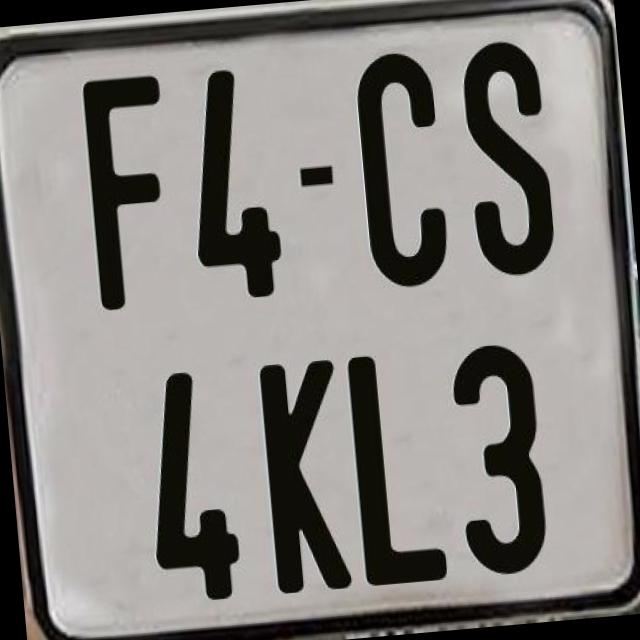3: (449, 342, 552, 582)
4: (140, 368, 250, 610), (182, 63, 286, 303)
C: (350, 48, 456, 296)
F: (80, 72, 180, 314)
K: (255, 359, 356, 602)
L: (346, 350, 453, 594)
S: (456, 37, 562, 279)
